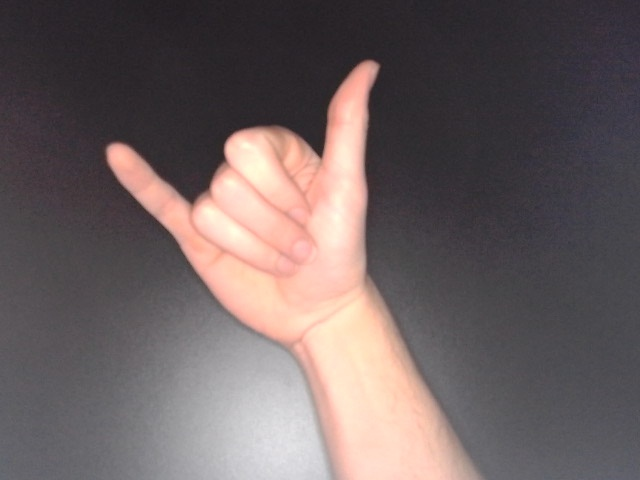y: (99, 56, 387, 349)
